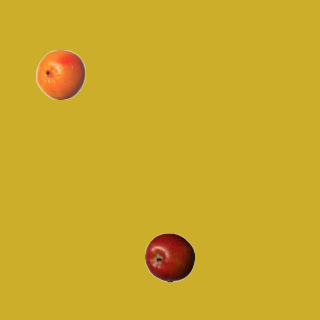Apple Braeburn: (144, 232, 194, 282)
Grapefruit Pink: (35, 49, 85, 99)
